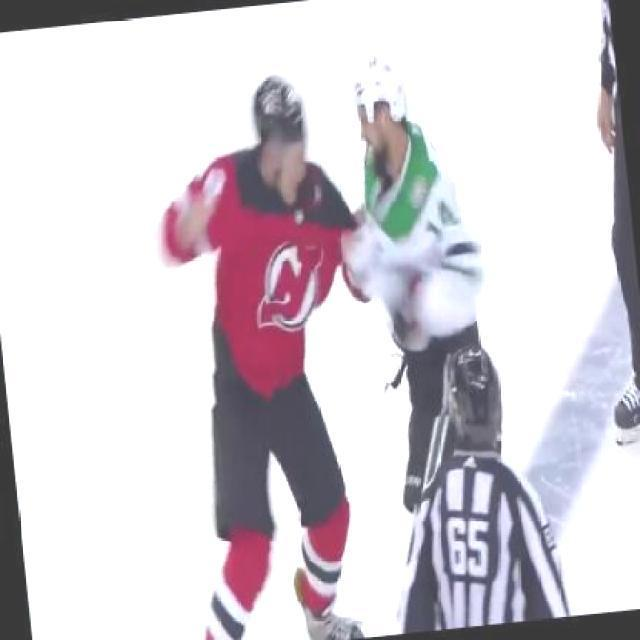fight: (140, 46, 500, 492)
